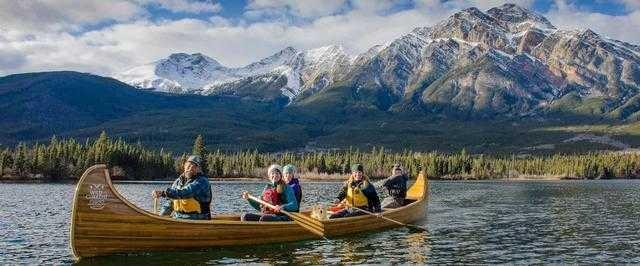kayak: (70, 164, 429, 253)
